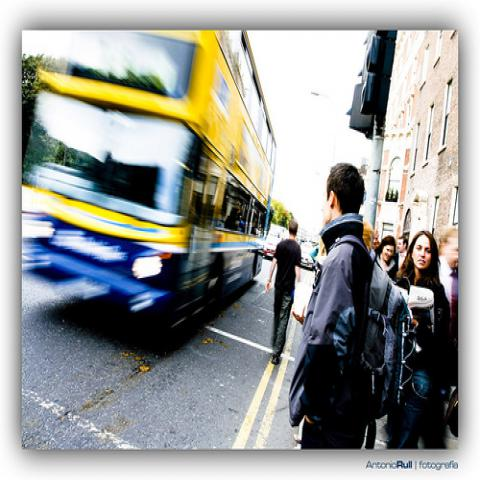bus: (18, 28, 278, 344)
car: (301, 241, 315, 270), (263, 244, 277, 258)
